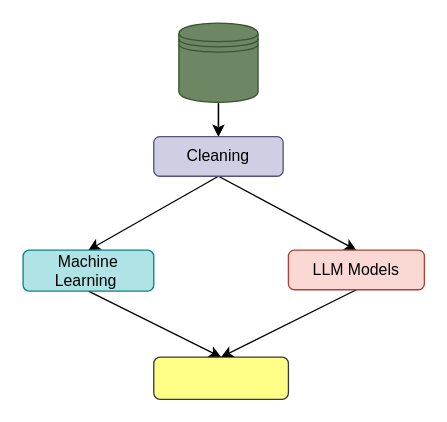
Image size: 447x422. Some labels were removed from this diagram. Each missing label, with the centre of its shape:
"Analysis" goes at (220,377).
"Dataset" goes at (218,62).
